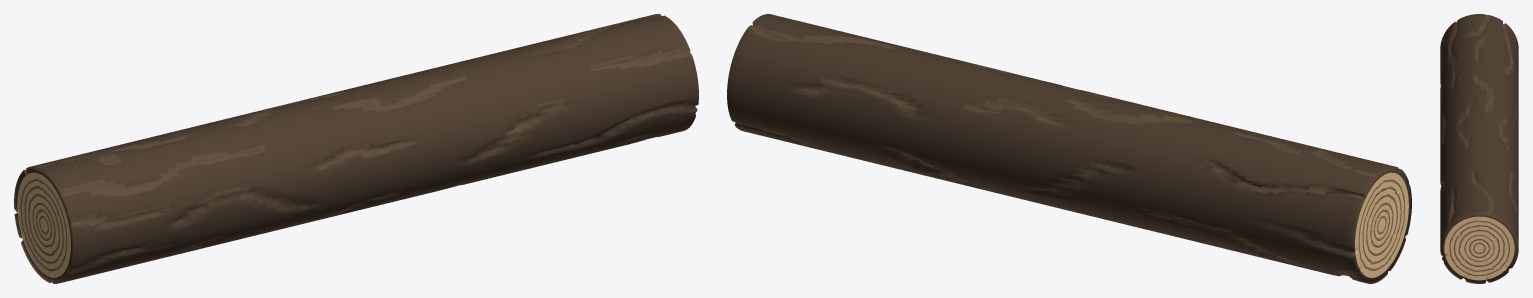
The model's file is buche.fbx.
3 renders of one model, left to right at view 1: azimuth 30°, elevation 25°; view 2: azimuth 150°, elevation 25°; view 3: azimuth 270°, elevation 25°, orthographic. The views are drawn at different scales.
Visible parts, largest first — view 1: Cylinder; view 2: Cylinder; view 3: Cylinder.
Part boxes in pixels (left/top/right/bottom): Cylinder: left=14, top=14, right=698, bottom=283; Cylinder: left=727, top=14, right=1411, bottom=283; Cylinder: left=1440, top=14, right=1518, bottom=283.
Bounding box in the file's own units: 1200 × 200 × 200.
